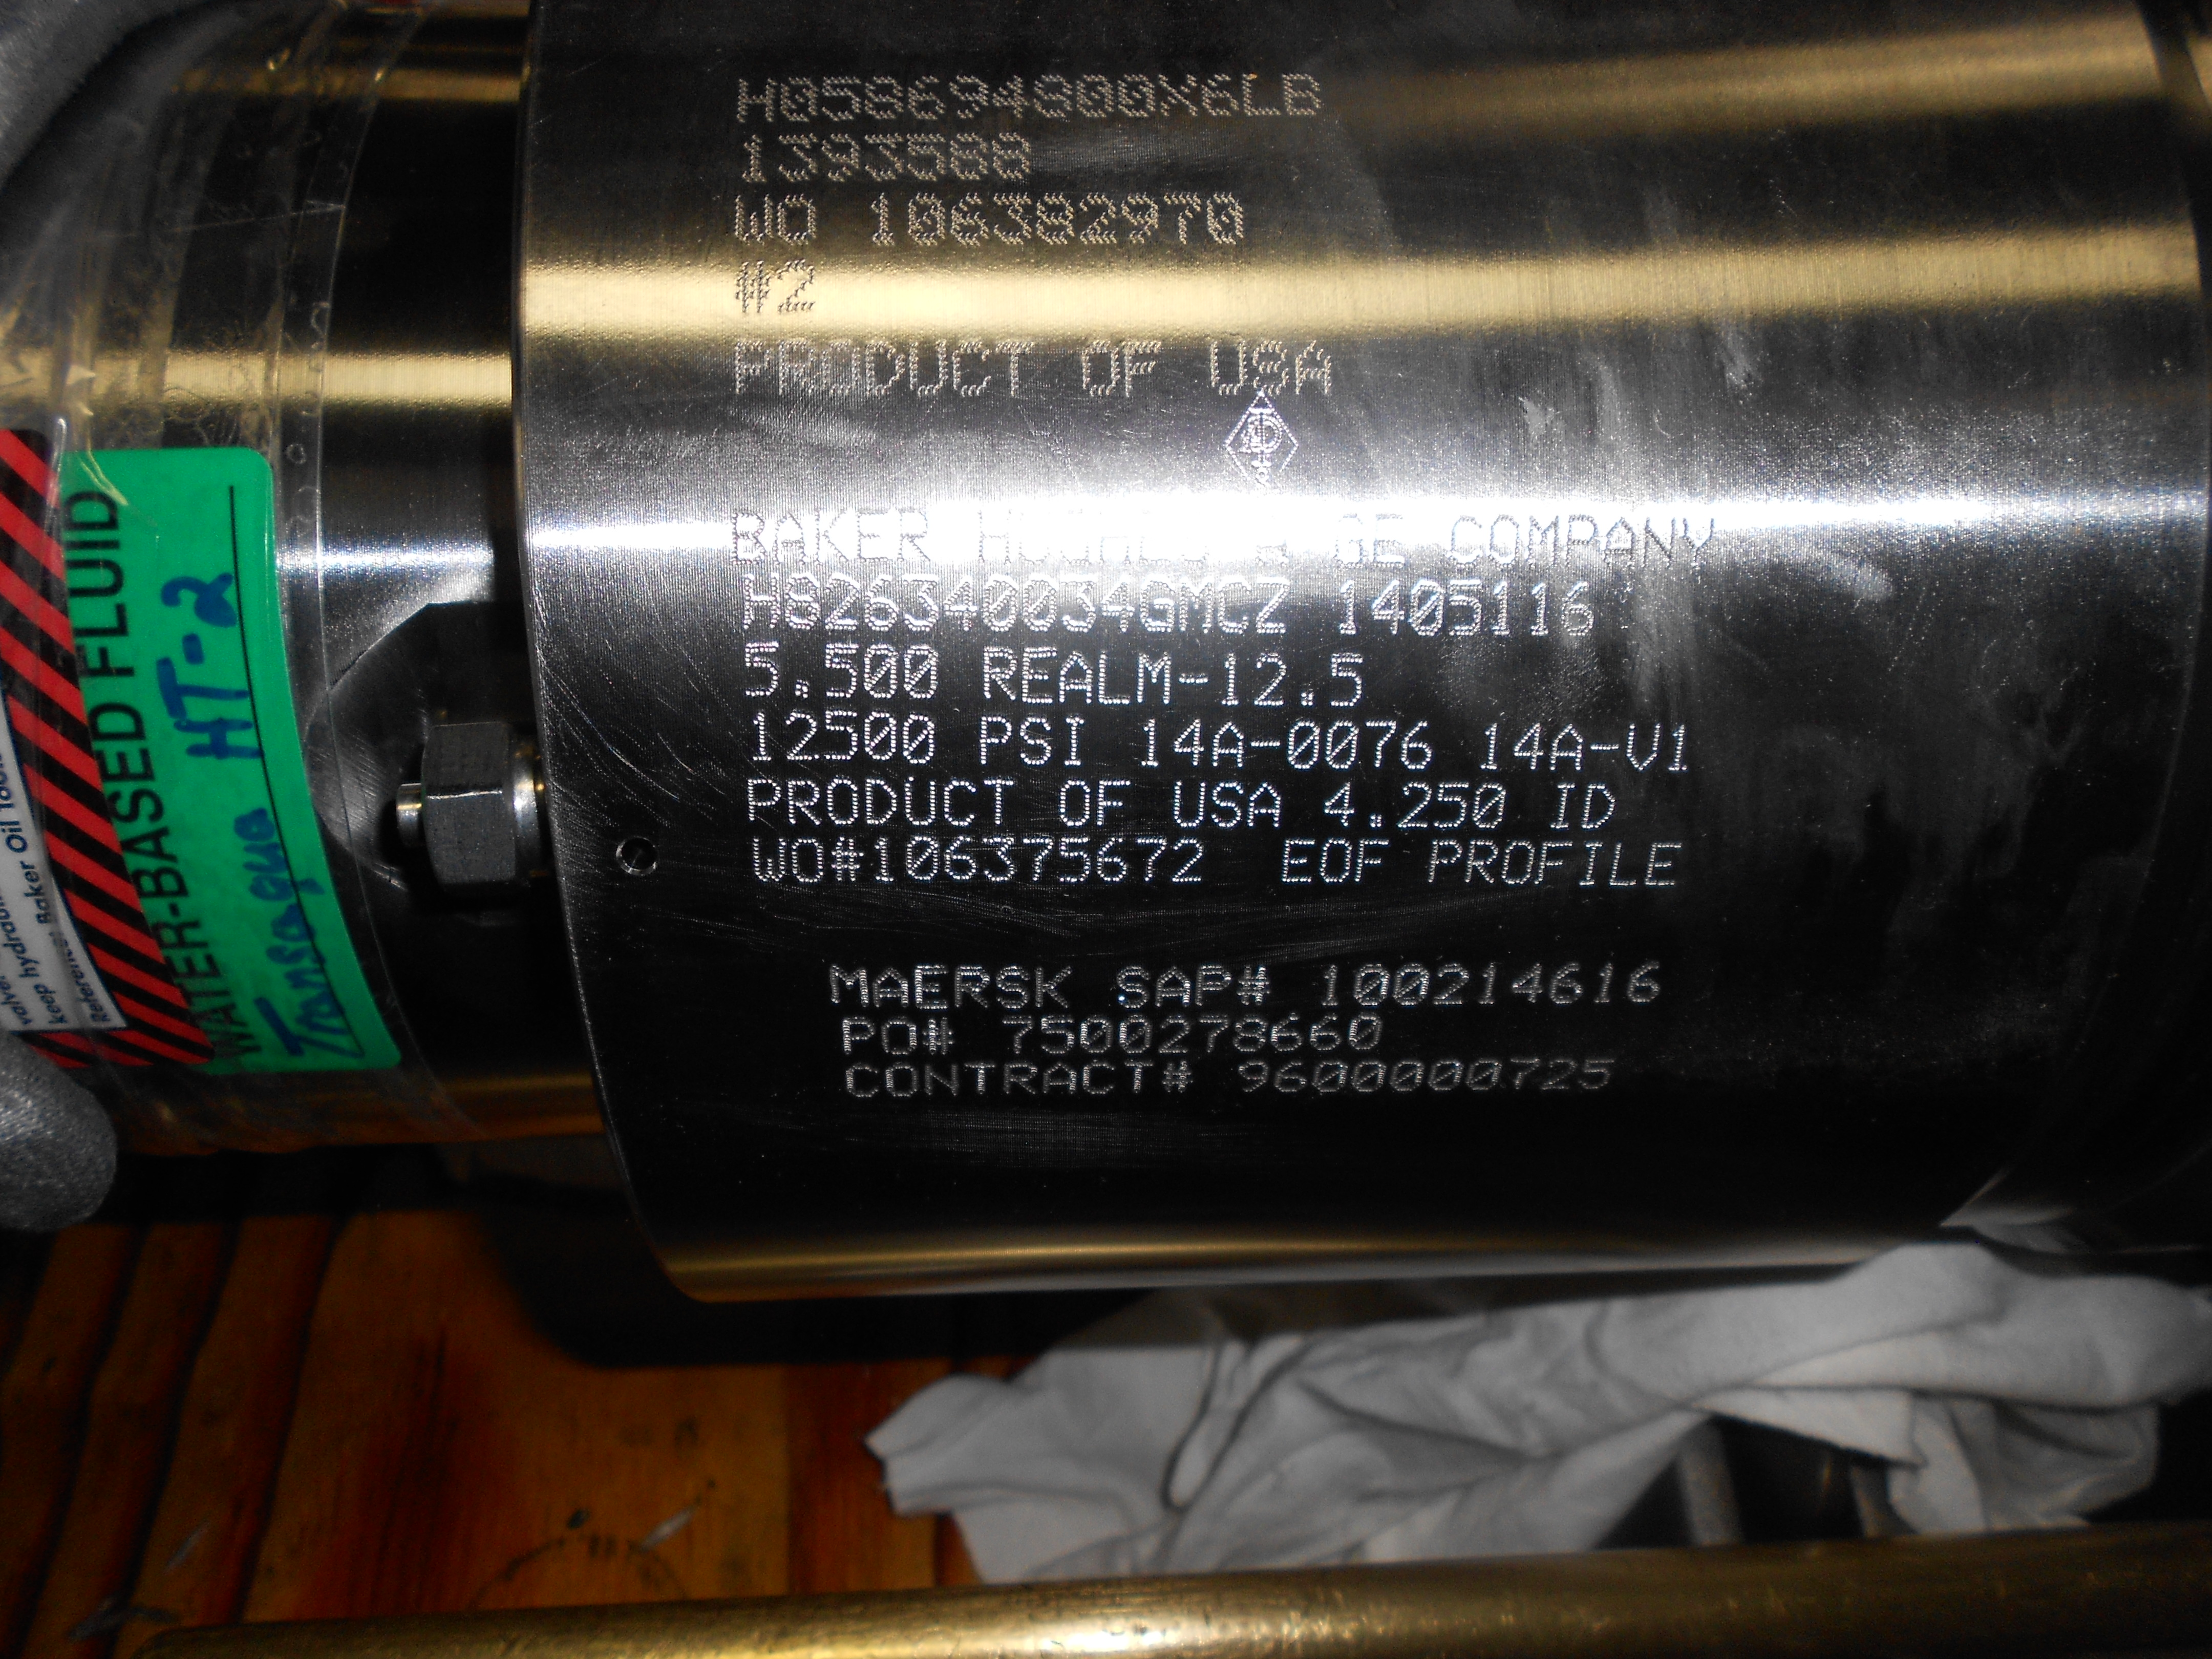character: (989, 188, 1035, 249), (1031, 190, 1076, 251), (1073, 188, 1118, 249), (1204, 190, 1249, 251), (1249, 338, 1294, 399), (1078, 338, 1123, 399), (949, 338, 995, 399), (907, 336, 953, 397), (820, 335, 866, 396), (775, 335, 820, 396), (850, 505, 895, 566), (892, 505, 937, 566), (1327, 509, 1372, 570), (1444, 511, 1489, 572), (1521, 507, 1562, 572), (1251, 573, 1292, 638), (1019, 643, 1061, 708), (1122, 340, 1167, 399), (949, 192, 993, 253), (1118, 190, 1162, 251), (1160, 188, 1204, 249), (1294, 338, 1338, 399), (1209, 338, 1252, 399), (995, 336, 1038, 397), (866, 336, 909, 397), (730, 336, 773, 397), (732, 260, 775, 321), (772, 256, 815, 317), (728, 505, 772, 566), (770, 507, 813, 568), (808, 504, 852, 565), (974, 507, 1017, 568), (1369, 509, 1413, 570), (1559, 575, 1601, 638), (742, 570, 784, 633), (859, 568, 900, 631), (897, 570, 939, 633), (937, 572, 979, 634), (1017, 577, 1059, 640), (1057, 573, 1099, 636), (1092, 575, 1134, 638), (1136, 573, 1177, 636), (1367, 575, 1409, 638), (1404, 575, 1446, 638), (1444, 577, 1486, 640), (1679, 511, 1721, 573), (775, 192, 820, 249), (1484, 507, 1524, 572), (1172, 572, 1212, 636), (1559, 507, 1599, 572), (1597, 512, 1637, 577), (782, 570, 822, 633), (820, 570, 860, 633), (979, 573, 1019, 636), (1212, 575, 1252, 638), (1637, 512, 1677, 575), (1623, 714, 1663, 777), (904, 192, 948, 249), (732, 190, 775, 247), (949, 960, 993, 1018), (1620, 955, 1663, 1012), (1055, 648, 1096, 709), (1094, 648, 1134, 709), (1132, 648, 1172, 709), (1249, 650, 1289, 711), (1325, 650, 1366, 711), (782, 704, 822, 765), (820, 706, 860, 767), (862, 704, 902, 765), (899, 708, 939, 769), (829, 955, 871, 1012), (909, 958, 951, 1016), (991, 957, 1033, 1014), (1033, 960, 1075, 1018), (1111, 957, 1153, 1014), (1151, 958, 1193, 1016), (1191, 958, 1233, 1016), (1233, 958, 1275, 1016), (1348, 955, 1390, 1012), (1388, 953, 1430, 1011), (1430, 953, 1472, 1011), (1507, 955, 1548, 1012), (1543, 957, 1585, 1014), (900, 643, 941, 702), (787, 831, 827, 890), (974, 709, 1012, 770), (1017, 711, 1055, 772), (869, 958, 911, 1014), (820, 641, 860, 699), (860, 643, 900, 701), (979, 645, 1019, 702), (1055, 831, 1096, 889), (942, 829, 982, 887), (827, 833, 867, 890), (742, 640, 780, 697), (1021, 831, 1059, 889), (981, 831, 1019, 889), (902, 831, 941, 889), (866, 829, 904, 887), (773, 75, 817, 125), (819, 73, 862, 124), (860, 71, 904, 122), (904, 73, 948, 124), (1029, 71, 1073, 122), (1071, 71, 1115, 122), (1115, 71, 1158, 122), (1157, 71, 1200, 122), (1198, 71, 1242, 122), (1278, 70, 1322, 120), (819, 132, 862, 183), (862, 132, 906, 183), (946, 132, 989, 183), (988, 131, 1031, 181), (733, 75, 777, 124), (946, 75, 989, 124), (989, 75, 1033, 124), (1237, 71, 1280, 120), (777, 132, 820, 181), (904, 132, 948, 181), (1548, 720, 1587, 774), (786, 775, 822, 831), (751, 829, 787, 885), (902, 774, 939, 829), (984, 772, 1021, 828), (1395, 775, 1432, 831), (1278, 831, 1315, 887), (1315, 831, 1352, 887), (1461, 833, 1498, 889), (1536, 838, 1573, 894), (1602, 836, 1639, 892), (1644, 836, 1681, 892), (1170, 836, 1207, 892), (1172, 711, 1205, 772), (862, 774, 899, 828), (745, 775, 782, 829), (787, 833, 824, 887), (906, 833, 942, 887), (942, 774, 979, 828), (1055, 775, 1092, 829), (1172, 777, 1209, 831), (1207, 777, 1244, 831), (1320, 777, 1357, 831), (1472, 779, 1508, 833), (1581, 782, 1618, 836), (1353, 835, 1390, 889), (1425, 835, 1461, 889), (1498, 838, 1534, 892), (1573, 840, 1609, 894), (1132, 835, 1169, 889), (1092, 831, 1129, 885), (826, 774, 860, 829), (1247, 779, 1282, 835), (1433, 775, 1468, 831), (742, 706, 775, 763), (1287, 716, 1322, 770), (1364, 716, 1399, 770), (1096, 775, 1130, 829), (1472, 960, 1507, 1012), (1038, 1014, 1078, 1060), (880, 1014, 920, 1060), (840, 1014, 880, 1060), (1000, 1056, 1040, 1101), (1038, 1058, 1078, 1103), (1080, 1054, 1120, 1100), (1233, 1056, 1273, 1101), (1308, 1056, 1348, 1101), (1505, 1051, 1545, 1096), (1580, 1054, 1620, 1100), (866, 190, 895, 251), (1325, 718, 1359, 772), (1512, 720, 1545, 774), (1667, 720, 1696, 779), (1350, 1056, 1390, 1100), (1000, 1014, 1038, 1060), (920, 1014, 958, 1060), (880, 1014, 918, 1060), (843, 1060, 881, 1105), (881, 1058, 920, 1103), (921, 1058, 960, 1103), (961, 1058, 1000, 1103), (1120, 1054, 1158, 1100), (1158, 1054, 1197, 1100), (1273, 1056, 1312, 1101), (1386, 1056, 1425, 1101), (1428, 1054, 1467, 1100), (1467, 1054, 1505, 1100), (1541, 1054, 1580, 1100), (1489, 573, 1515, 640), (1212, 720, 1245, 772), (1399, 720, 1432, 772), (738, 132, 770, 185), (1336, 575, 1360, 641), (1233, 1012, 1271, 1054), (1216, 650, 1242, 711), (1527, 579, 1552, 643), (1062, 713, 1089, 772), (1346, 1012, 1385, 1053), (1268, 1012, 1306, 1053), (1195, 1014, 1233, 1054), (1306, 1011, 1343, 1053), (1136, 713, 1162, 770), (1157, 1016, 1193, 1056), (1116, 1014, 1153, 1054), (1078, 1016, 1115, 1056), (1315, 962, 1345, 1009), (1479, 718, 1501, 777), (1176, 669, 1212, 687), (791, 676, 815, 701), (1590, 739, 1620, 756), (1249, 735, 1284, 749), (1299, 688, 1320, 709)
